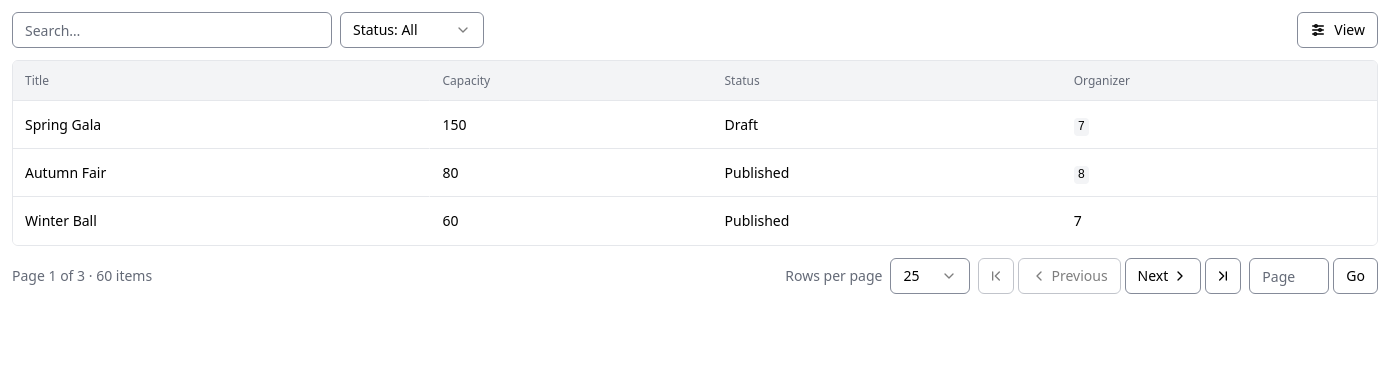
Test: errors › a failed page change keeps the last rows on screen
This screenshot has width=1390, height=377.
Click the button "Next" at (1163, 276), box [1125,258,1201,294]
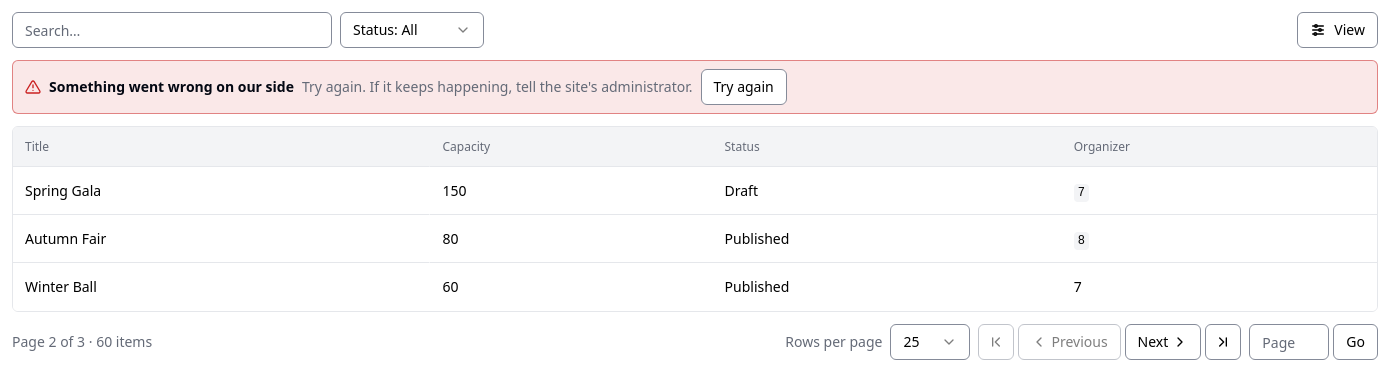
Check: the text "Spring Gala" is shown, box [25,180,101,200]
Check: the message shows "Something went wrong on our side", box [49,77,294,96]
